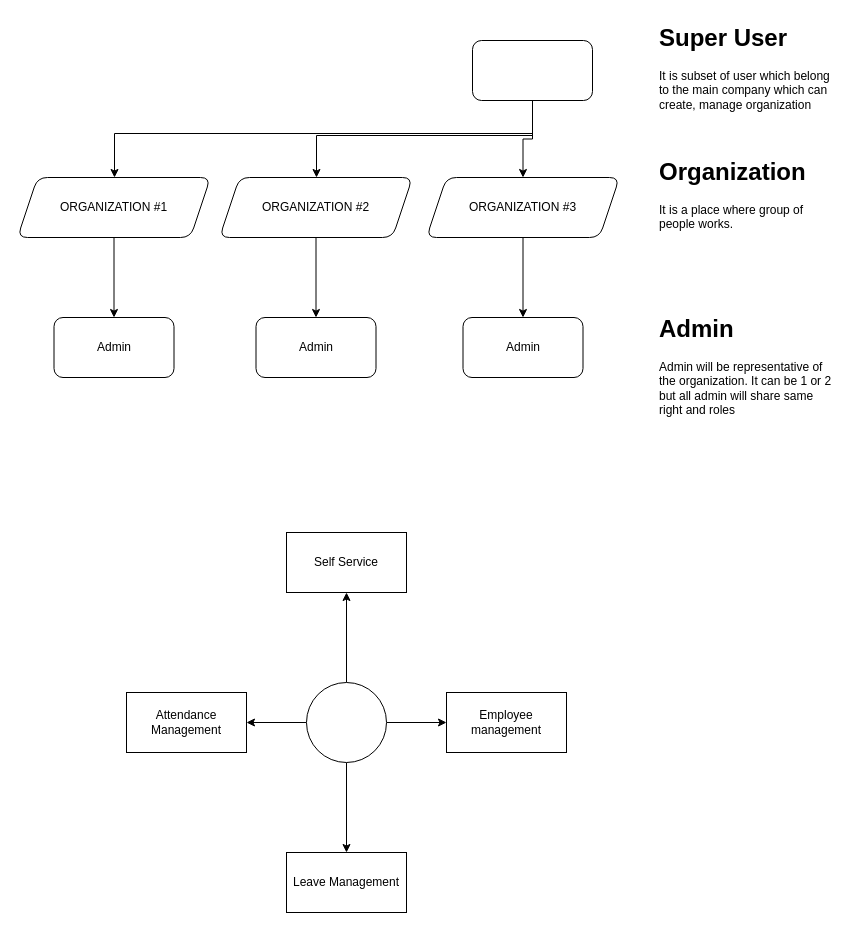
Some shapes in this 855 by 930 pixel diagram are drawn without their labels. The shapes that lost their labels are listed below. From the top down, each one's centre as x and y in pixels, then its label:
At pixel 532 70: "Supe user".
At pixel 346 722: "Organization".
